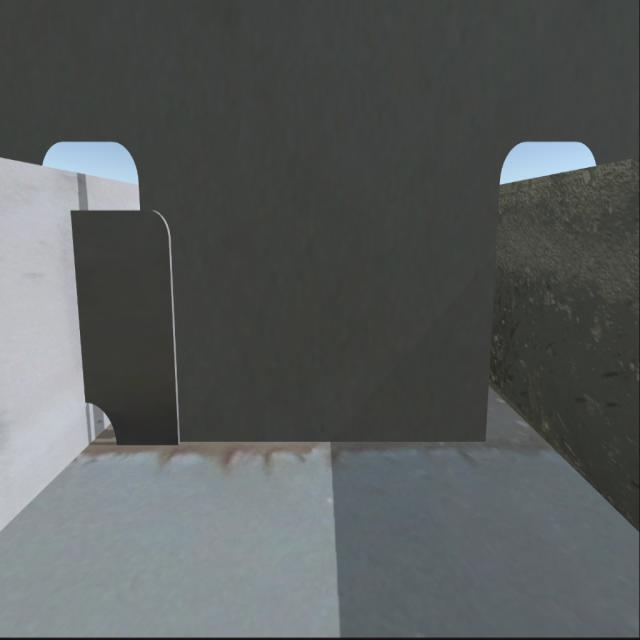fillet_hole: (84, 393, 124, 450)
fillet_yong_jeop_jang: (117, 426, 484, 456)
longi_yong_jeop_jang: (78, 207, 90, 405)
plate_CP05: (78, 191, 178, 456)
